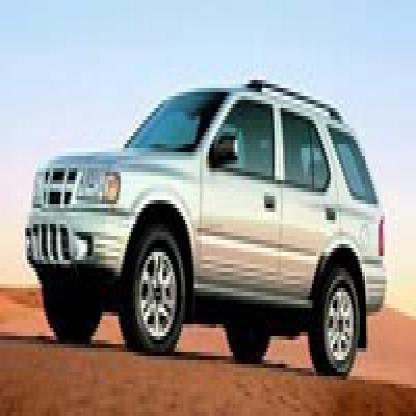Vehicle: (17, 80, 397, 396)
